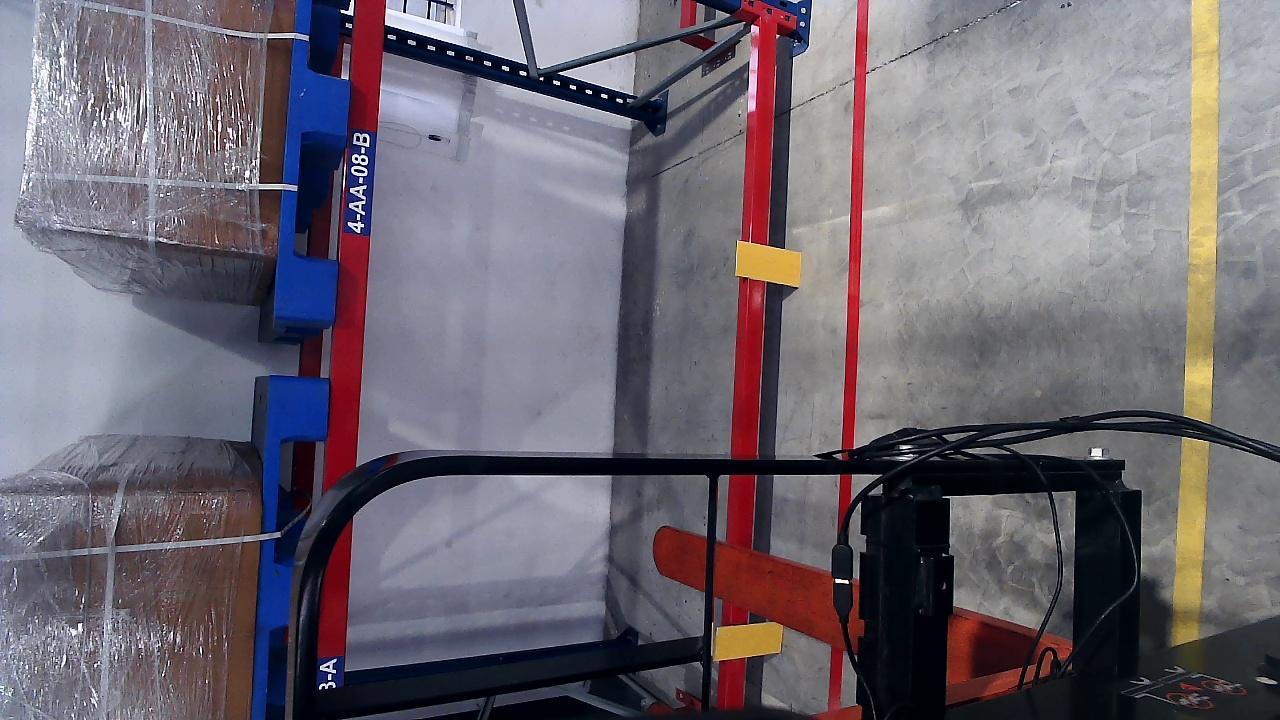h_rack: (319, 0, 389, 718), (720, 25, 769, 714)
orange_strip: (735, 241, 801, 287), (713, 621, 784, 660)
red_line: (840, 5, 869, 451)
small_pallet: (271, 0, 367, 317), (252, 375, 328, 720)
yellow_line: (1181, 0, 1221, 422)
